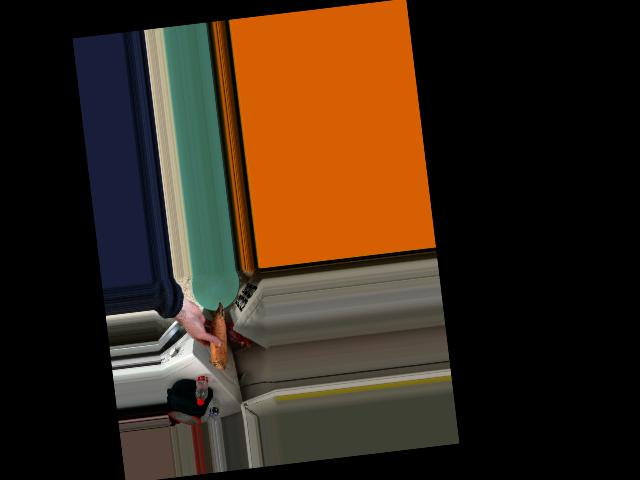sweet_potato: (200, 300, 232, 374)
